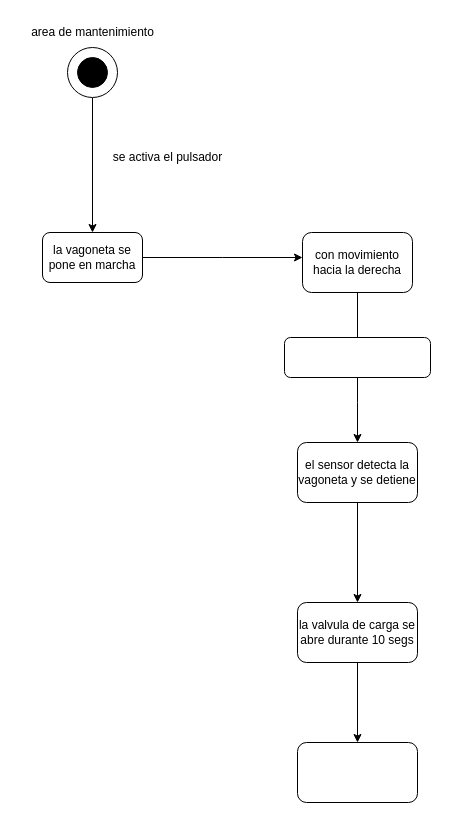
This 449x820 diagram has some shape labels left out. The centre of each missing label's shape, as x and y in pixels:
"llega a la zona de carga" goes at point (357, 357).
"se desplaza a zona de descarga y se vacia durante 5 segs" goes at point (357, 772).
